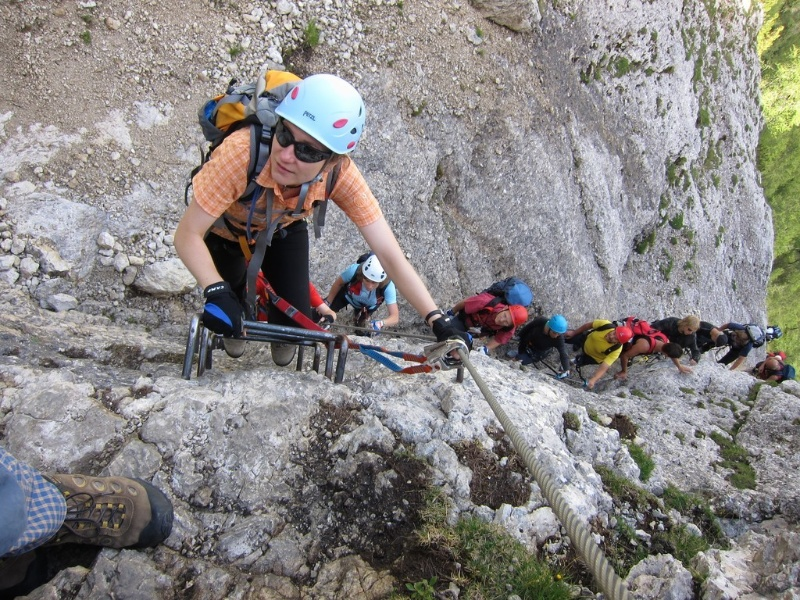Baret: (277, 72, 366, 153)
